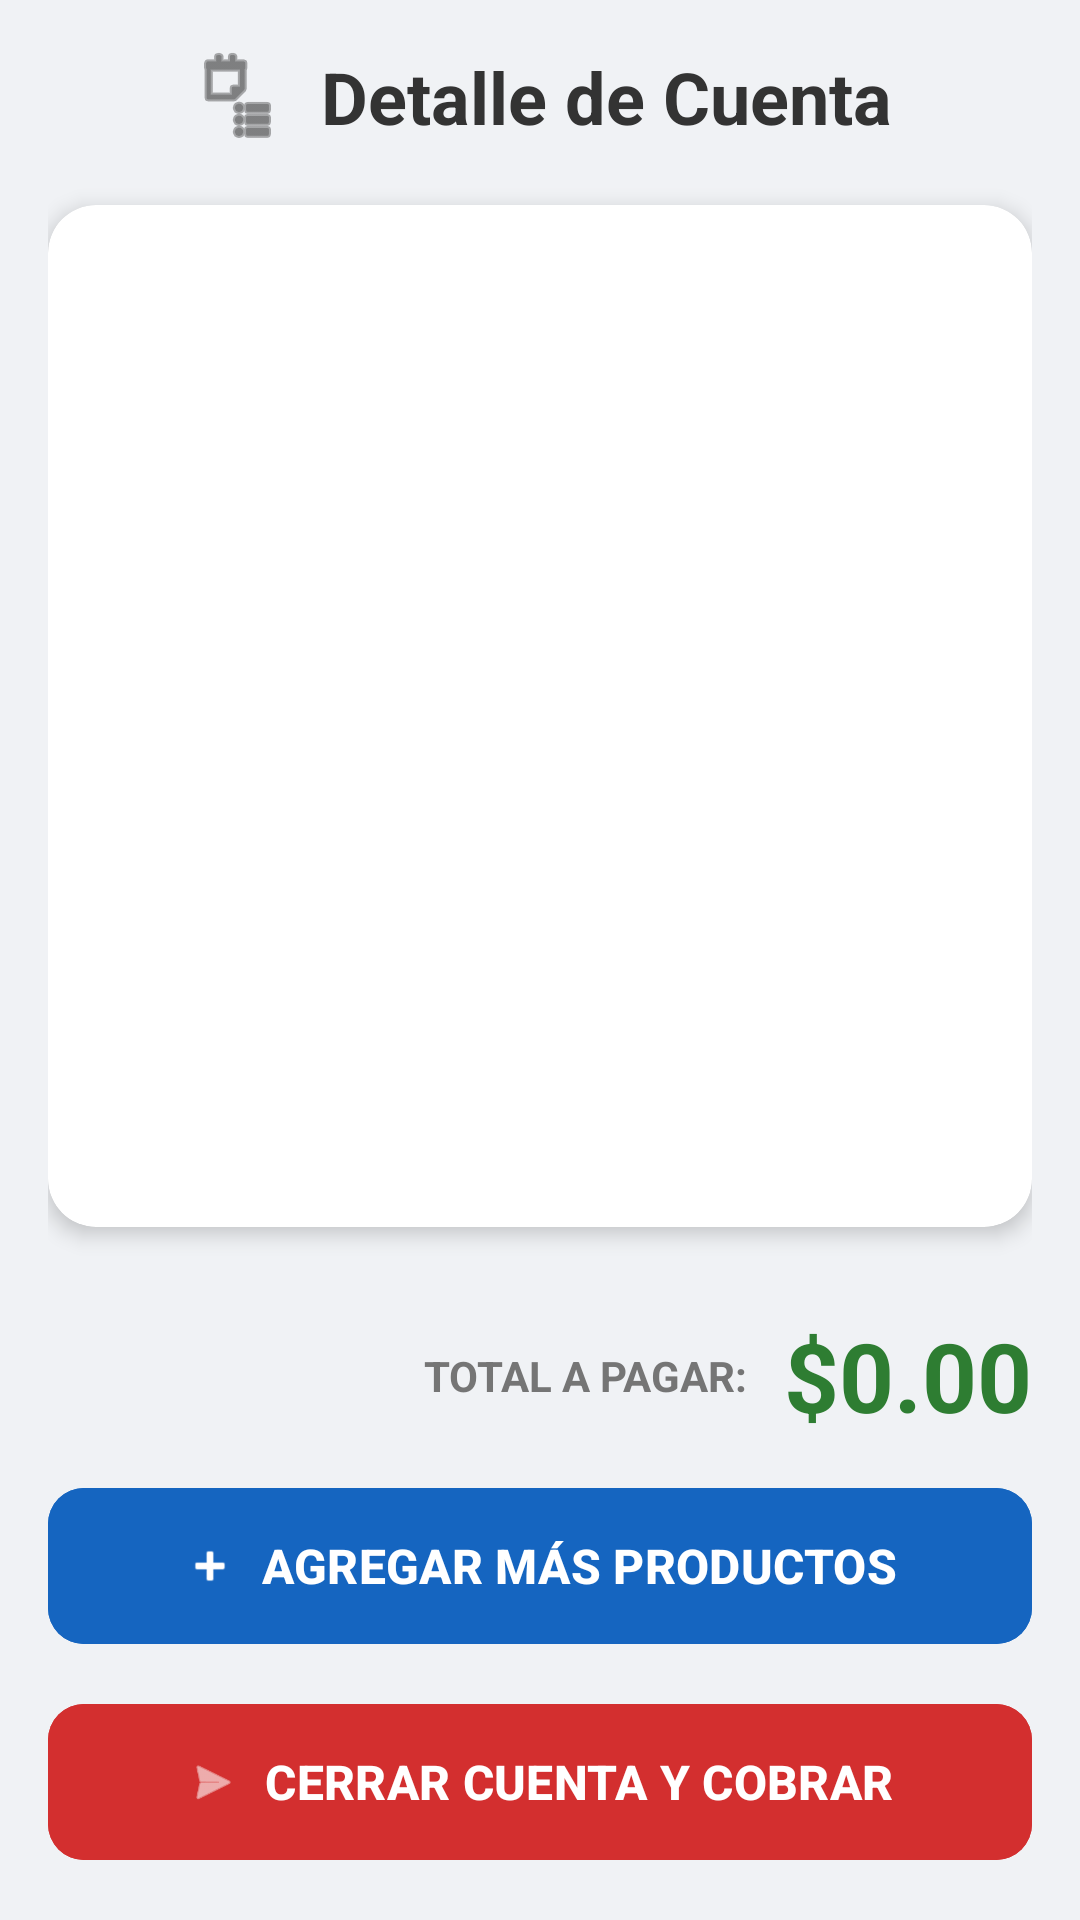

Icon click points for this 1080w x 1920h phone screenshot, format (x,y):
agenda: (237,95)
